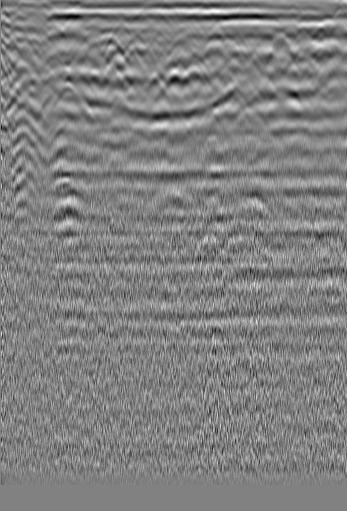가스: (42, 192, 90, 228)
상수: (309, 26, 329, 46)
오수: (18, 35, 38, 55)
우수: (167, 35, 187, 55)
